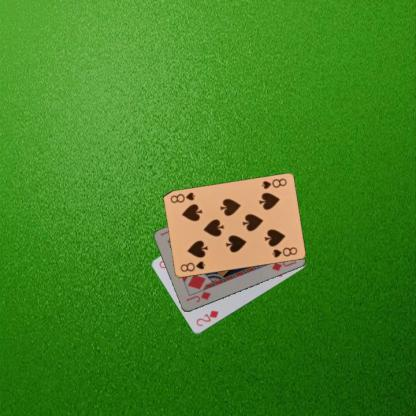2d: (194, 308, 220, 328)
8s: (259, 176, 288, 190), (178, 259, 206, 273)
Jd: (183, 288, 212, 304)
